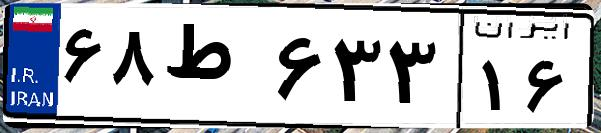1: (475, 38, 525, 113)
3: (385, 28, 445, 110), (330, 28, 385, 110)
6: (270, 28, 330, 110), (57, 26, 110, 100), (525, 38, 570, 115)
8: (110, 28, 158, 98)
ط: (158, 20, 270, 120)
